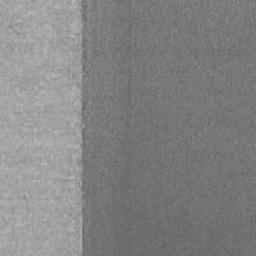Welding line: (79, 0, 90, 256)
